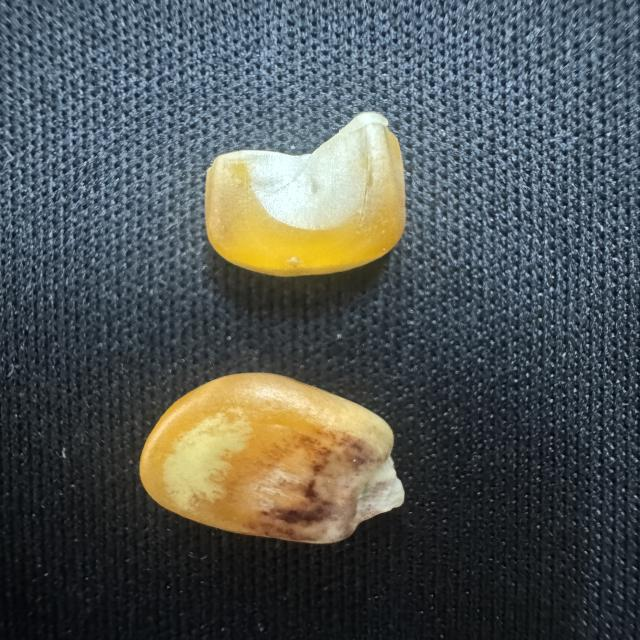Bad-Seed: (132, 369, 416, 551), (196, 109, 414, 280)
